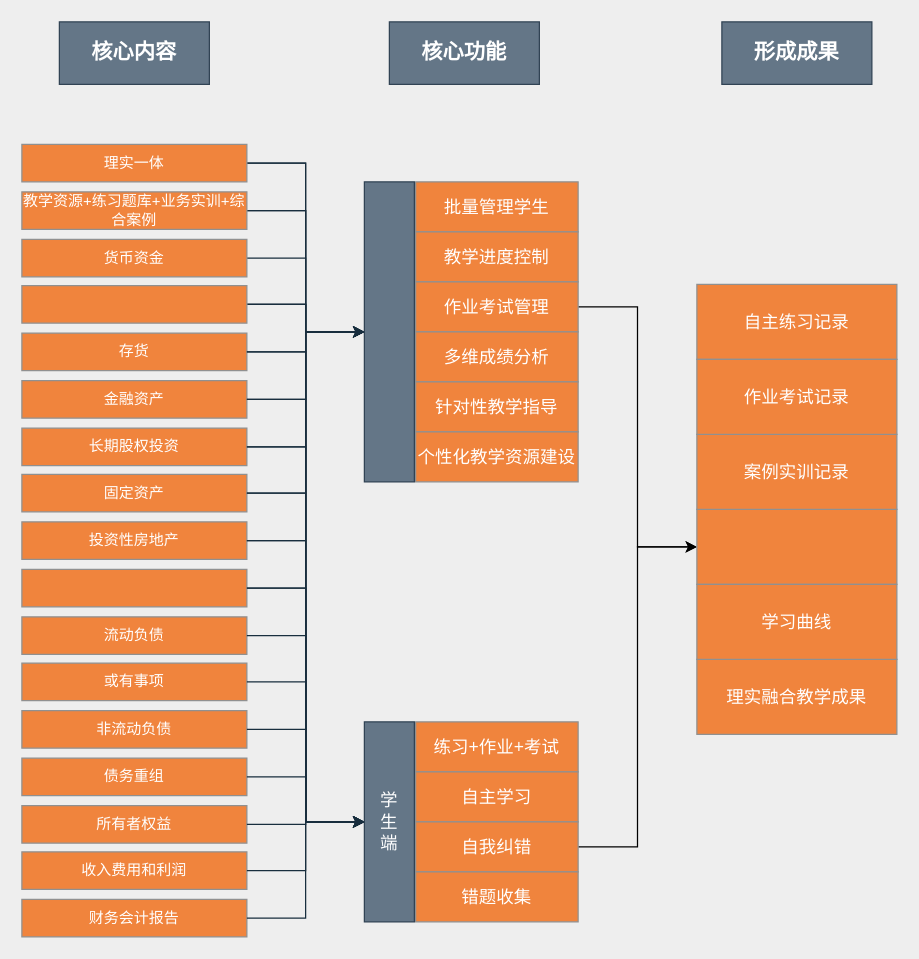
This 919x959 diagram has some shape labels left out. The shapes that lost their labels are listed below. From the top down, each one's centre as x and y in pixels, then its label:
(134,303): 应收和预付款项
(388,331): 教 师 端
(796,546): 做题详情
(134,587): 无形资产及其他资产
